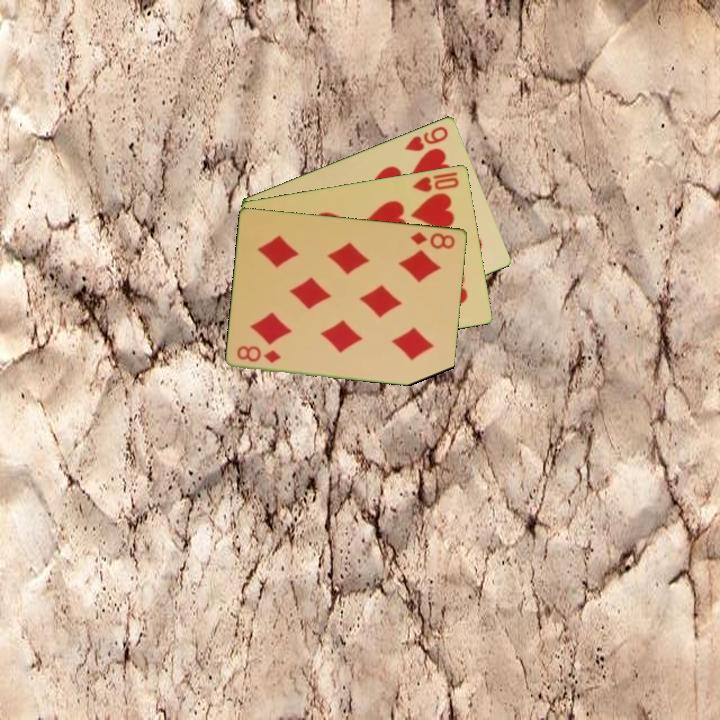10h: (409, 168, 462, 195)
8d: (407, 228, 458, 252), (234, 342, 284, 365)
9h: (401, 122, 451, 154)
